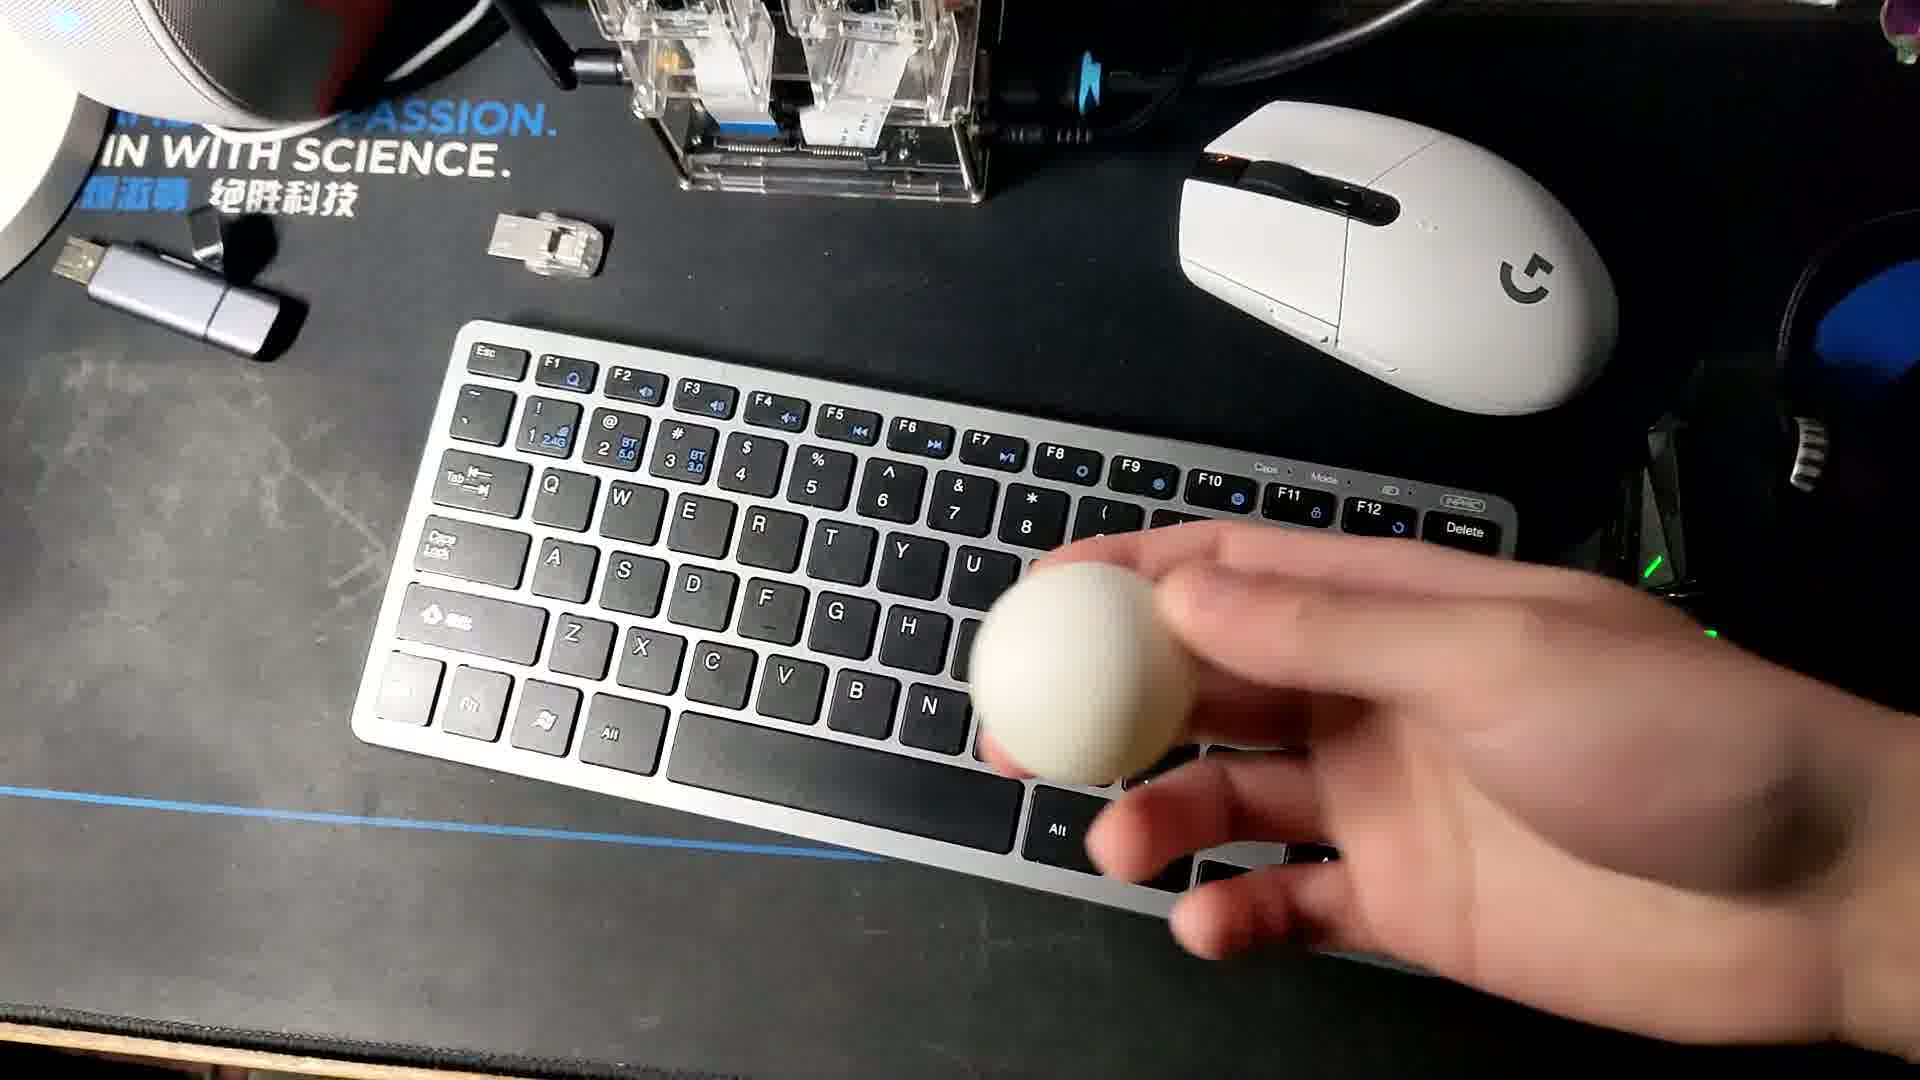Ball: (971, 564, 1191, 791)
